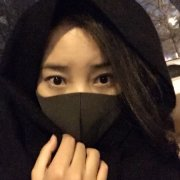face_mask: (38, 26, 126, 148)
